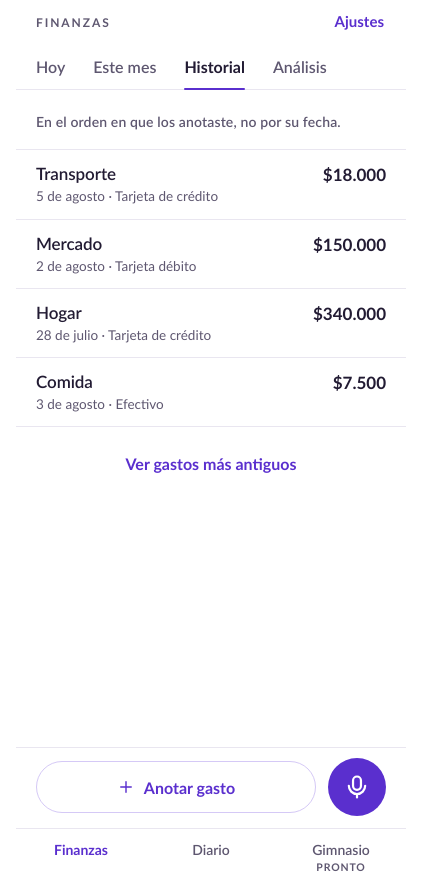
Test case: criteria 16.7, 16.8, 16.9, 16.13 — showing more without losing what is on screen › appends older records with the keyset cursor, keeping what is on screen (16.7, 16.8)
Expected: the text "Transporte" is shown, [36,163,116,184]
Click the button "Ver gastos más antiguos" at (211, 463), box [104,439,318,487]
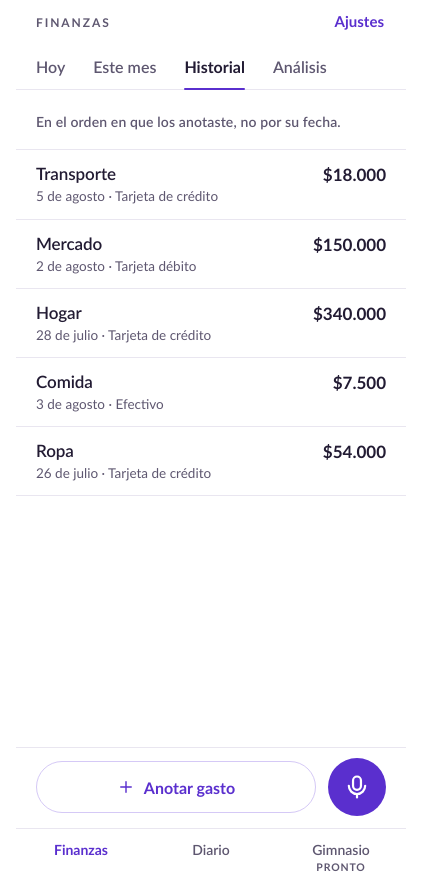
Expected: the text "Ropa" is shown, [36,440,74,461]
Expected: the link "Ropa 26 de julio · Tarjeta de crédito $54.000" is shown, [16,427,406,496]
Expected: the button "más antiguos" is gone
